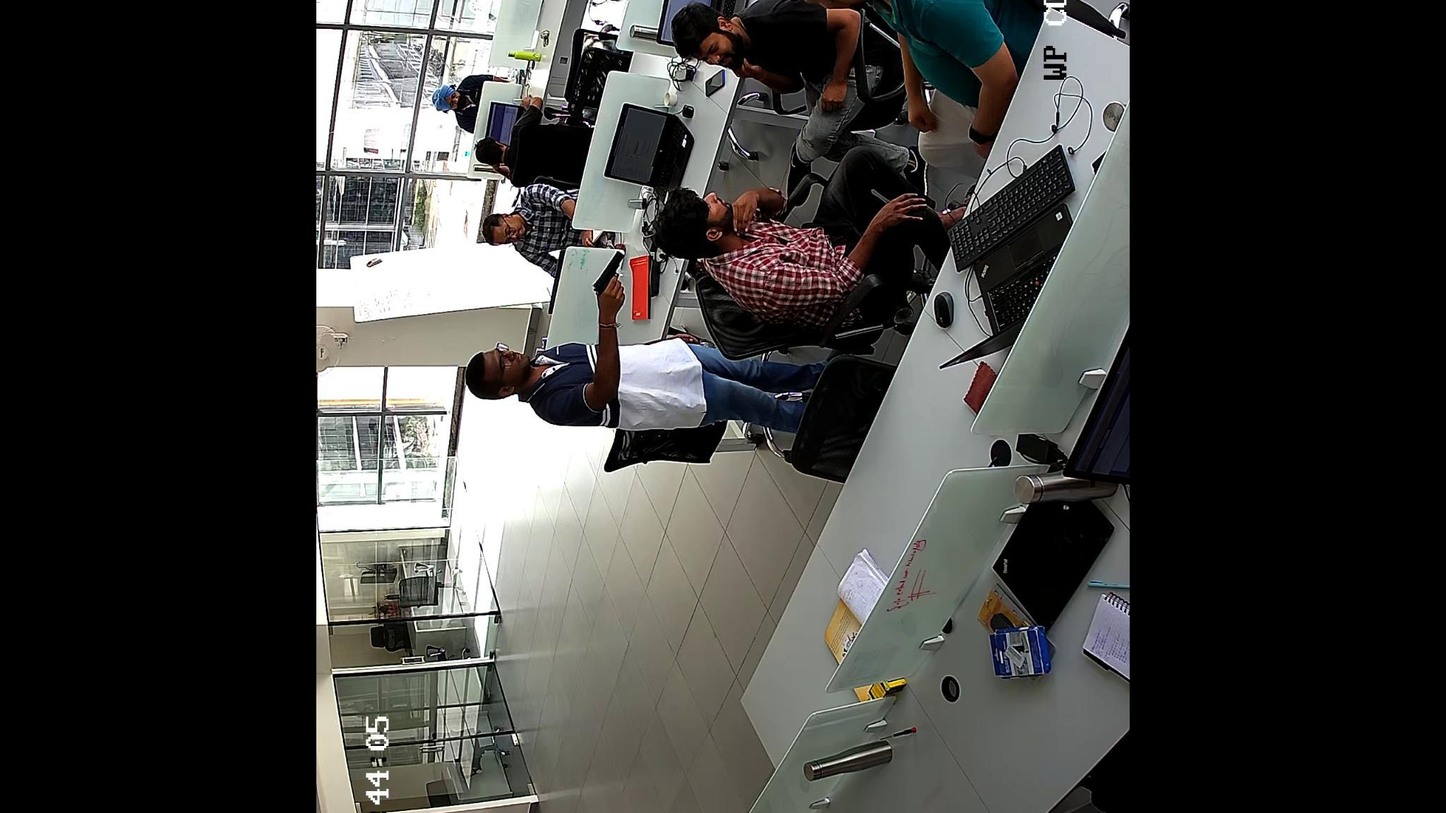gun: (593, 251, 626, 300)
